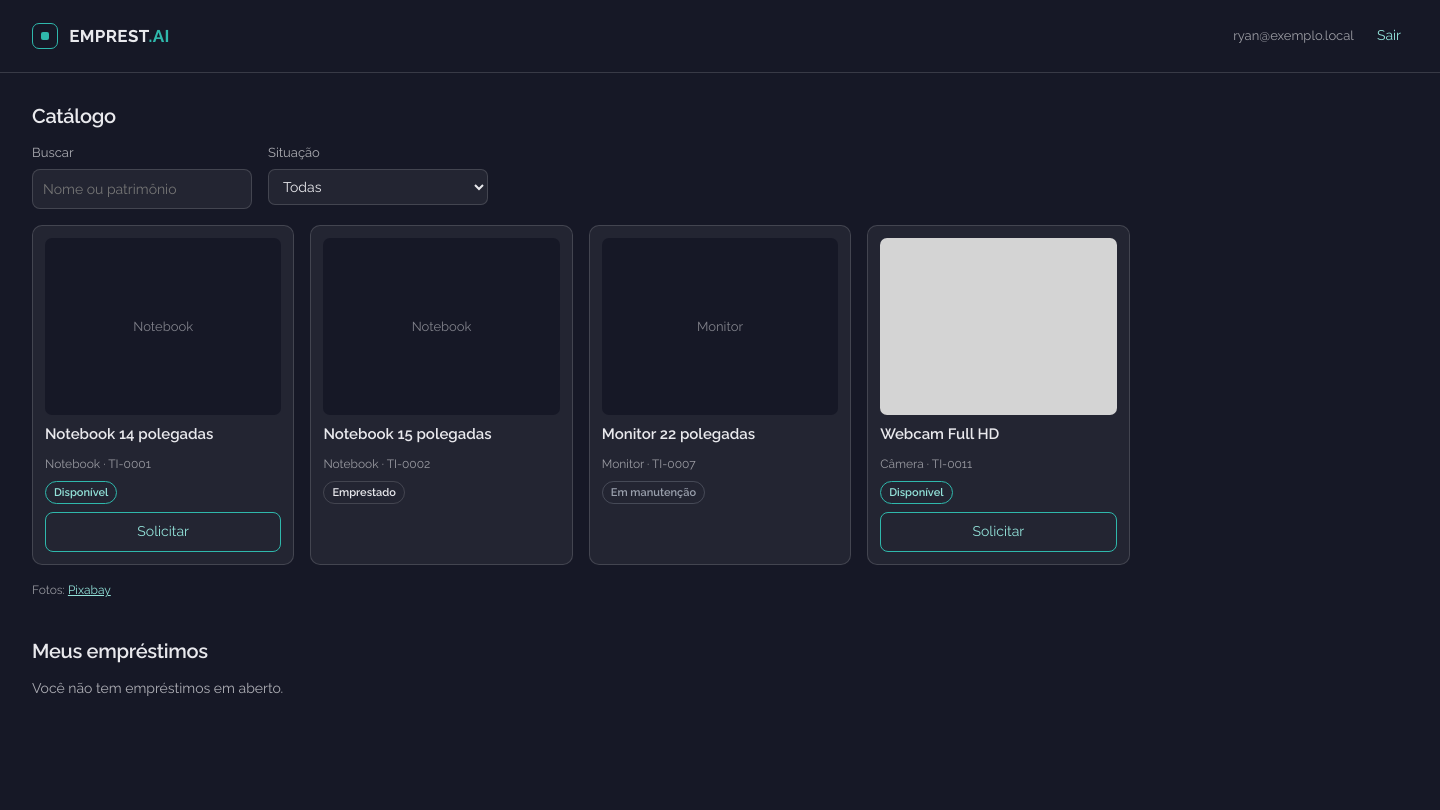
Scenario: solicitar › CA-05: recusa 409 mostra o motivo que veio da API
Click the button with aria-label "Solicitar Webcam Full HD" at (998, 532), box [880,512,1117,552]
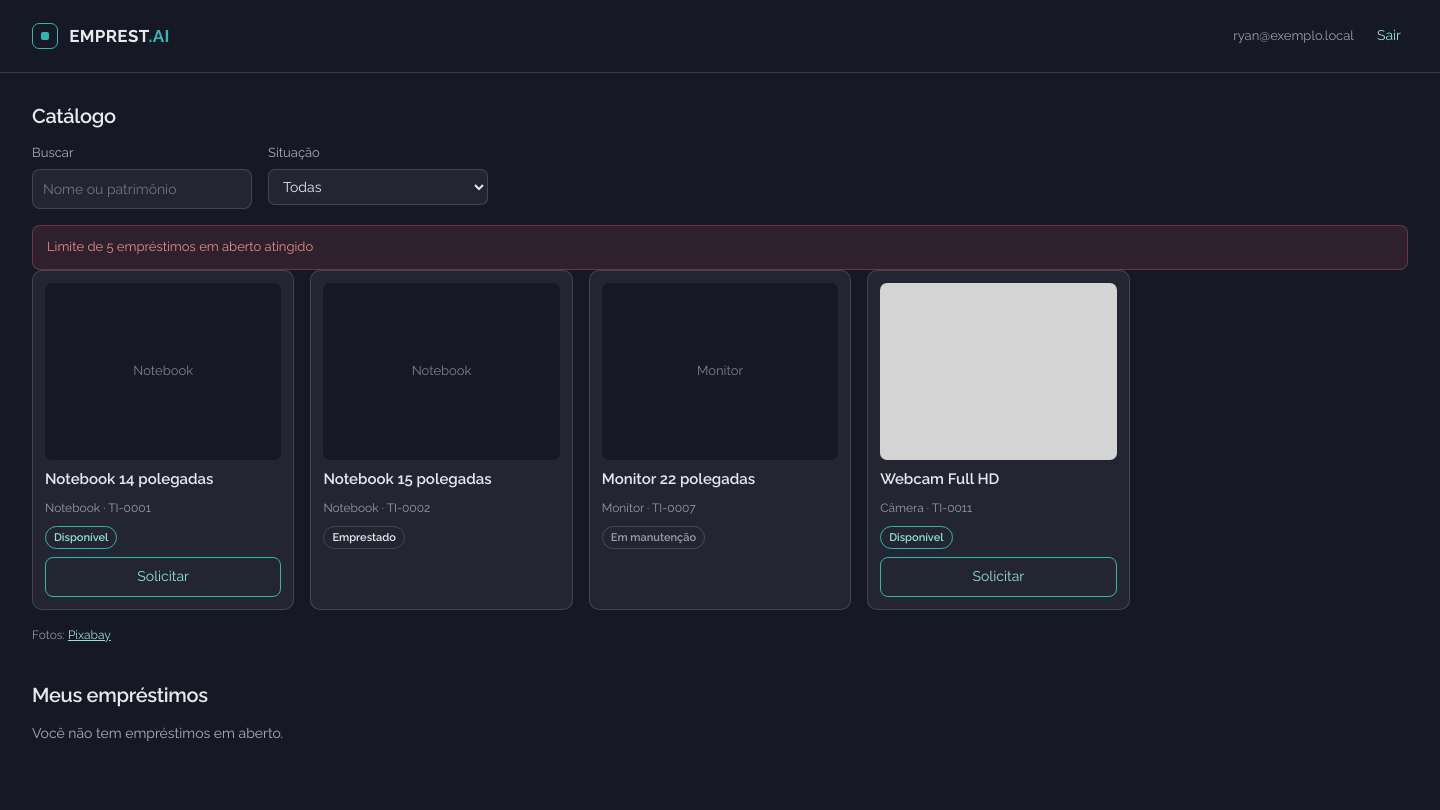
Expected: the message reads "Limite de 5 empréstimos em aberto atingido", [47,239,313,254]
